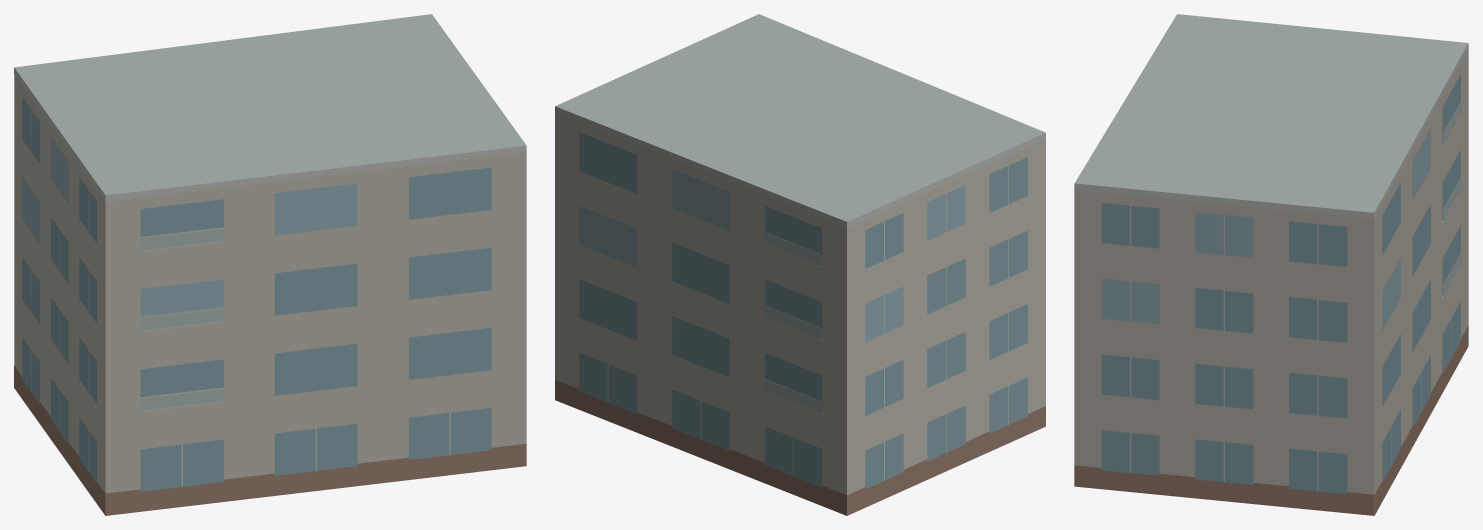
Rendered from survey-upis-32461880.glb.
3 views of the same model, side by side, from view 1: azimuth 30°, elevation 25°; view 2: azimuth 150°, elevation 25°; view 3: azimuth 270°, elevation 25° (orthographic). The views are drawn at different scales.
Parts seen in each view (by area): view 1: survey-upis-32461880.tmp; view 2: survey-upis-32461880.tmp; view 3: survey-upis-32461880.tmp.
Part boxes in pixels (bbox=[...]): survey-upis-32461880.tmp: bbox=[14, 14, 526, 515]; survey-upis-32461880.tmp: bbox=[555, 14, 1045, 515]; survey-upis-32461880.tmp: bbox=[1074, 14, 1468, 515].
Size of the model in its own units: 17.17 by 12.2 by 14.39.
